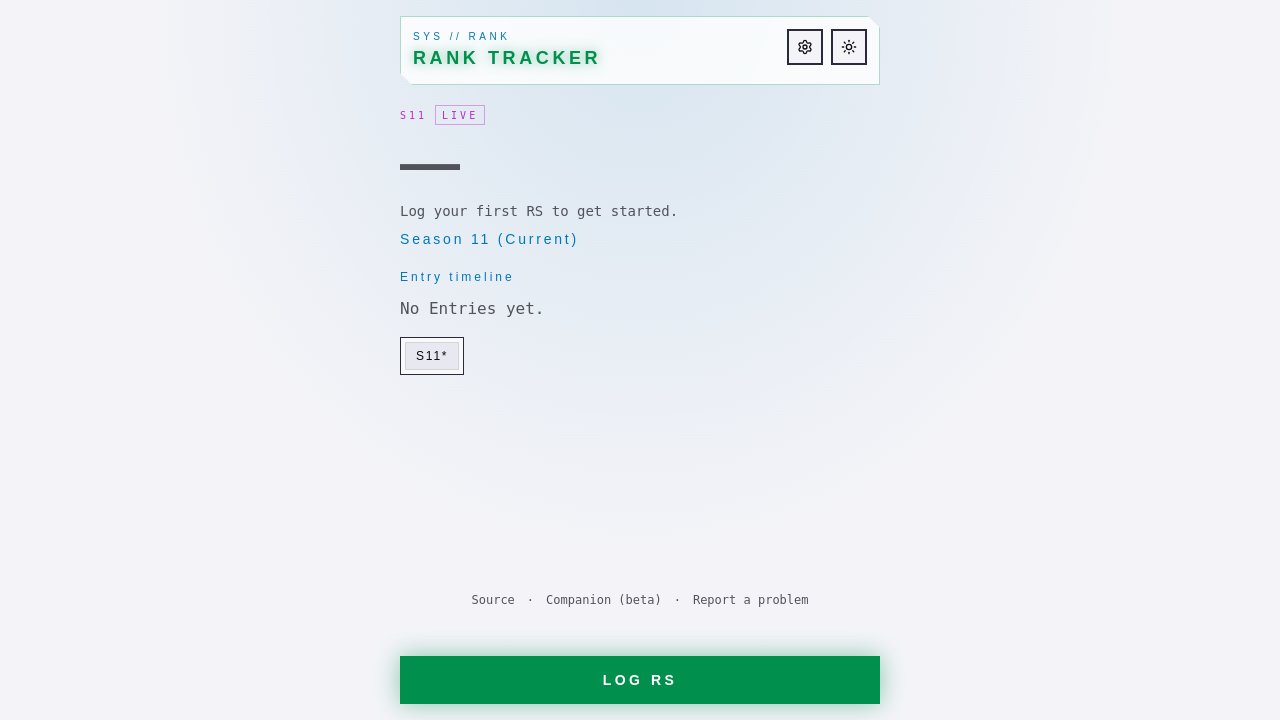
it: header gear opens Data sheet with Export and Import only
What coordinates should you click on to do the following:
click the button named "Data"
I would click on:
 (805, 47)
Its box is [787,29,823,65].
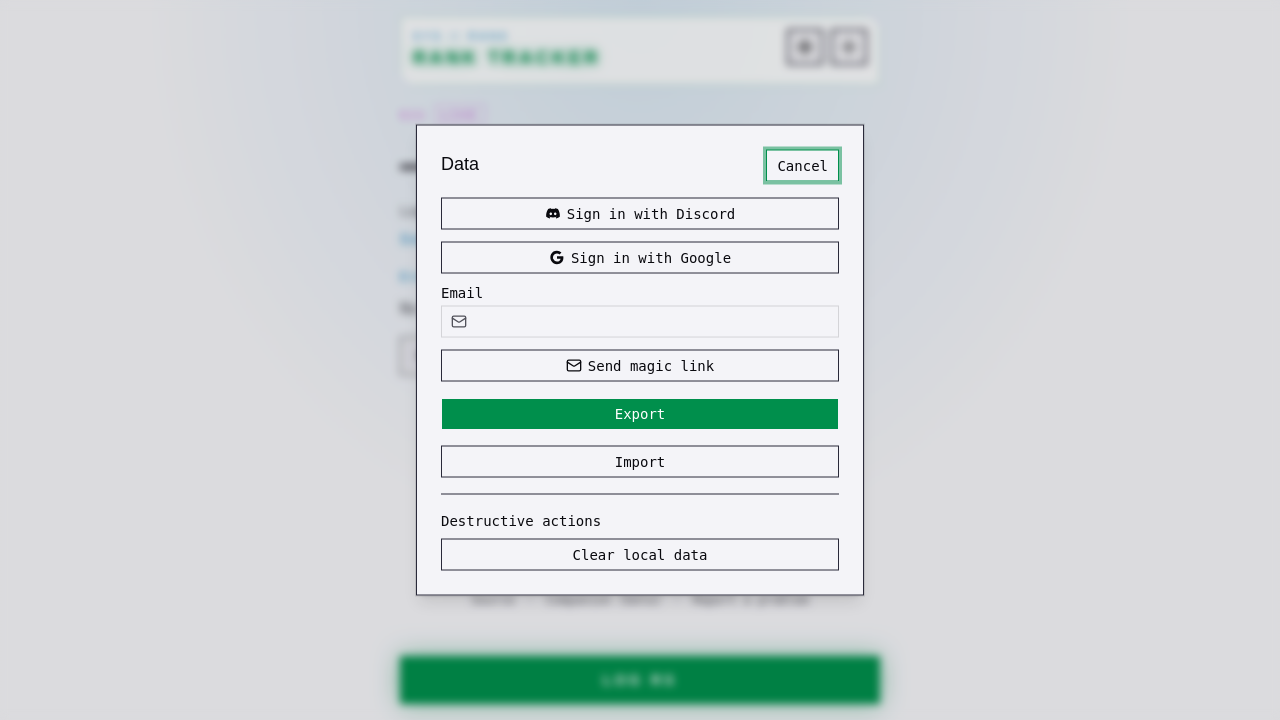
Expected: the dialog "Data" is shown, [416,124,864,596]
Expected: the button "Export" is shown, [441,398,839,430]
Expected: the button "Import" is shown, [441,446,839,478]
